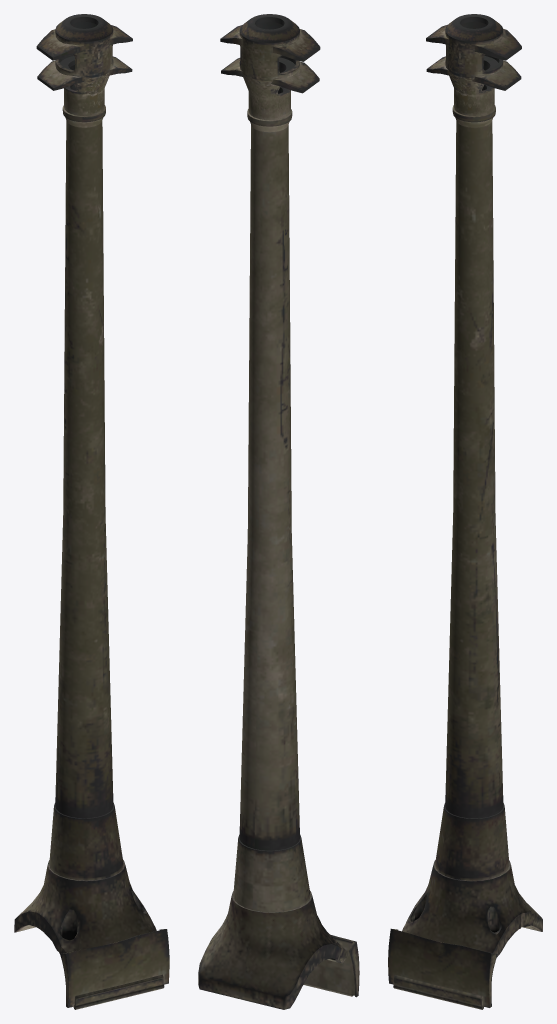
The model's file is Gun_02.glb.
3 views of the same model, side by side, from view 1: azimuth 30°, elevation 25°; view 2: azimuth 150°, elevation 25°; view 3: azimuth 330°, elevation 25° (orthographic). The views are drawn at different scales.
Visible parts, largest first — view 1: set_0_group_0; view 2: set_0_group_0; view 3: set_0_group_0.
Boxes of the visible parts, x1=… form: set_0_group_0: x1=14, y1=14, x2=169, y2=1009; set_0_group_0: x1=198, y1=14, x2=359, y2=1009; set_0_group_0: x1=388, y1=14, x2=542, y2=1009.
Bounding box in the file's own units: 0.5483 × 4.93 × 0.6032.
1 material, 1 textured.
